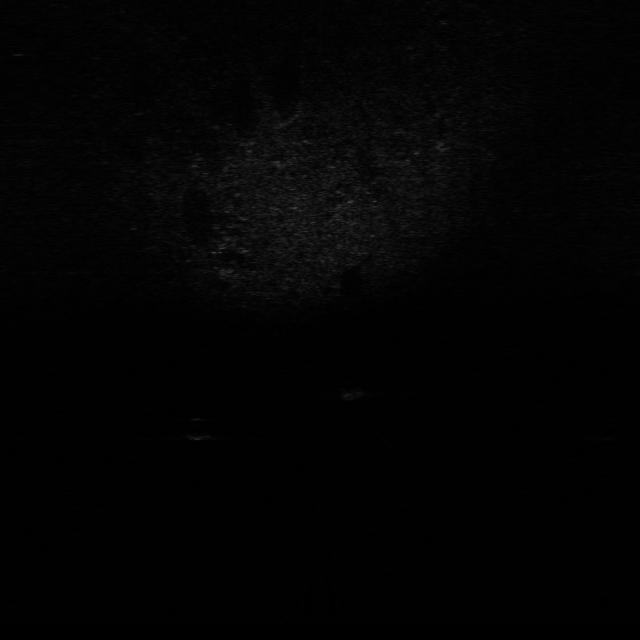ball: (178, 412, 220, 442)
cube: (338, 381, 368, 401)
